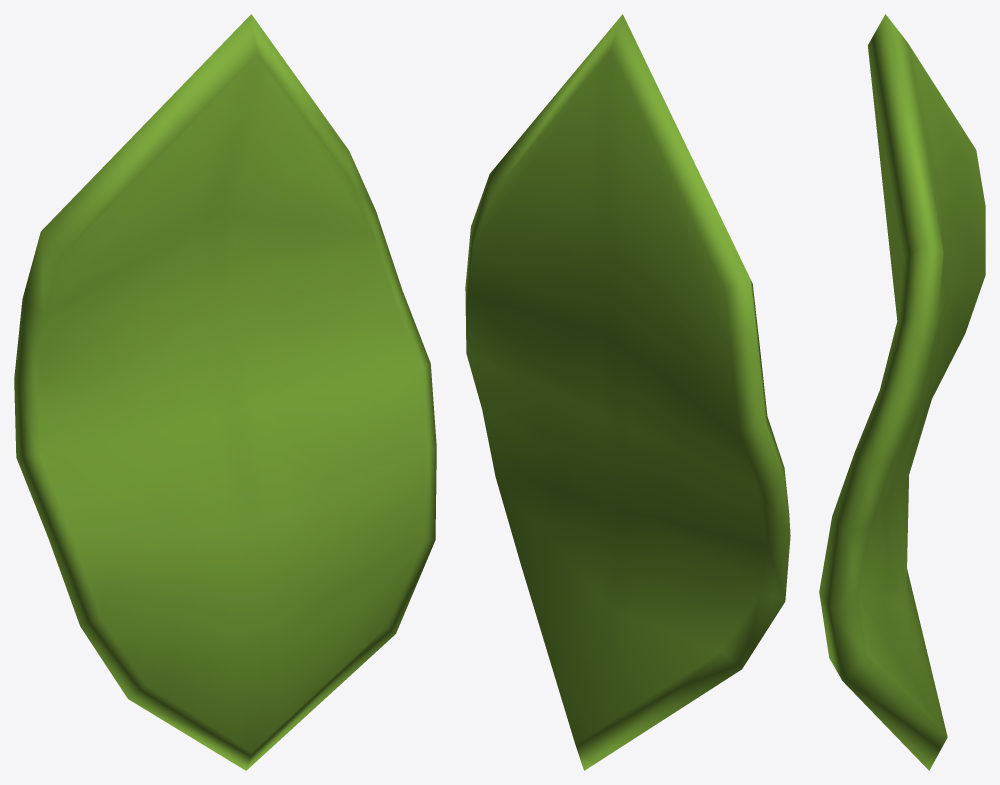
File: leaf.fbx
3 renders of one model, left to right at view 1: azimuth 30°, elevation 25°; view 2: azimuth 150°, elevation 25°; view 3: azimuth 270°, elevation 25°, orthographic. The views are drawn at different scales.
Parts seen in each view (by area): view 1: pasted__leaf; view 2: pasted__leaf; view 3: pasted__leaf.
Part boxes in pixels (left/top/right/bottom): pasted__leaf: left=14, top=14, right=436, bottom=770; pasted__leaf: left=465, top=14, right=790, bottom=770; pasted__leaf: left=819, top=14, right=985, bottom=770.
Size of the model in its own units: 11.24 by 22.38 by 4.51.
Materials: 1 (1 with a texture image).
